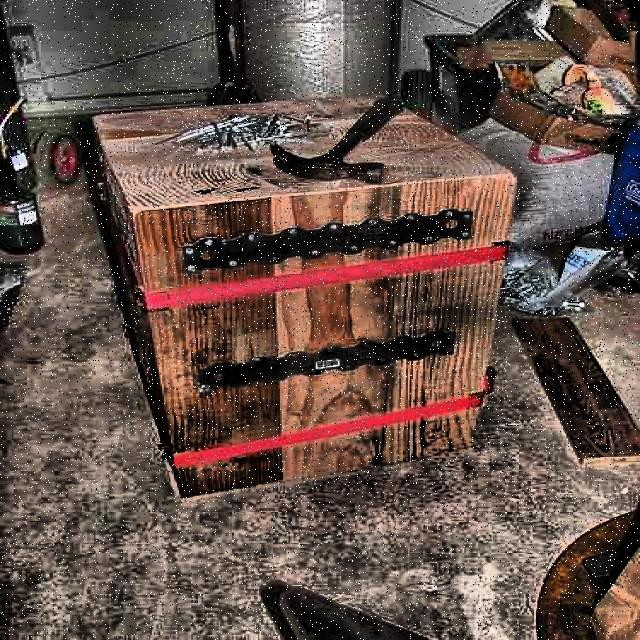hammer: (266, 93, 407, 183)
